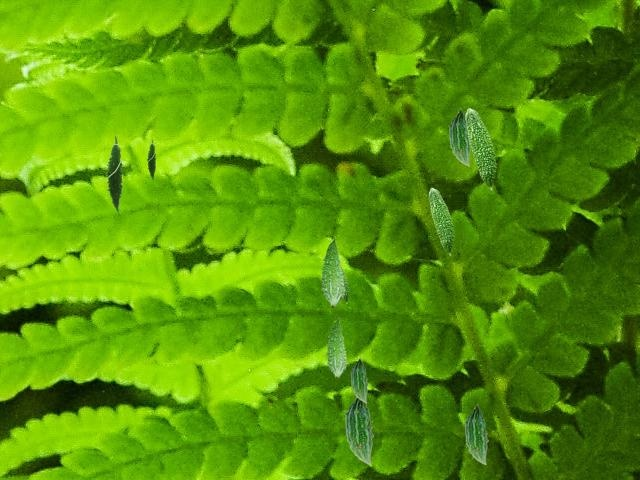ampalaya: (465, 107, 497, 191), (344, 398, 374, 465), (319, 236, 345, 308), (428, 187, 455, 256), (105, 135, 125, 213), (464, 403, 489, 465), (325, 316, 348, 379), (448, 107, 470, 166), (350, 357, 368, 403), (146, 138, 157, 180), (341, 266, 350, 304)
